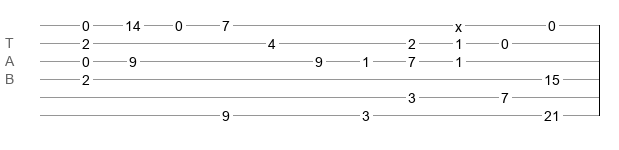0: (82, 18, 90, 28), (82, 54, 90, 64), (175, 18, 183, 28), (501, 36, 509, 46), (548, 18, 556, 28)
1: (362, 54, 370, 64), (455, 54, 463, 64), (455, 36, 463, 46)
14: (125, 18, 141, 28)
15: (544, 72, 560, 82)
2: (82, 36, 90, 46), (82, 72, 90, 82), (408, 36, 416, 46)
21: (544, 108, 560, 118)
3: (362, 108, 370, 118), (408, 90, 416, 100)
4: (268, 36, 276, 46)
7: (222, 18, 230, 28), (408, 54, 416, 64), (501, 90, 509, 100)
9: (129, 54, 137, 64), (222, 108, 230, 118), (315, 54, 323, 64)
x: (455, 19, 462, 27)
